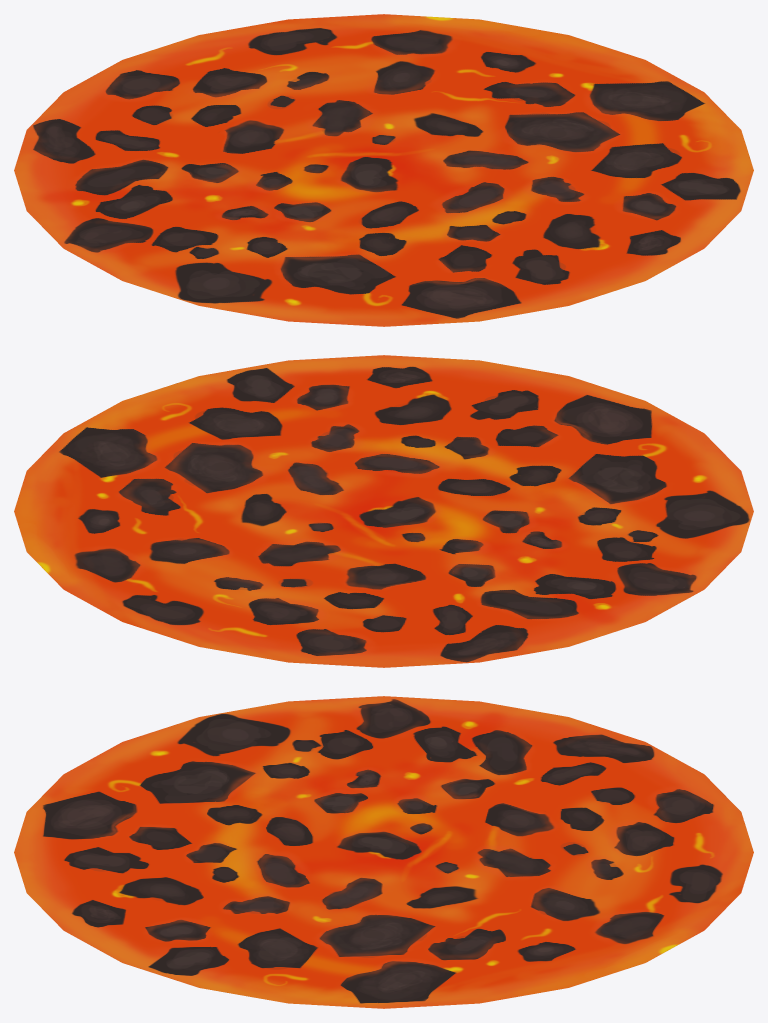
Rendered from lava.fbx.
The picture shows the model from 3 angles, top to bottom: view 1: azimuth 30°, elevation 25°; view 2: azimuth 150°, elevation 25°; view 3: azimuth 270°, elevation 25°; orthographic projection.
Visible parts, largest first — view 1: lava; view 2: lava; view 3: lava.
Boxes of the visible parts, x1=… form: lava: x1=14, y1=14, x2=753, y2=326; lava: x1=14, y1=355, x2=753, y2=667; lava: x1=14, y1=696, x2=753, y2=1008.
Size of the model in its own units: 2264 by 0 by 2264.
1 material, 1 textured.
